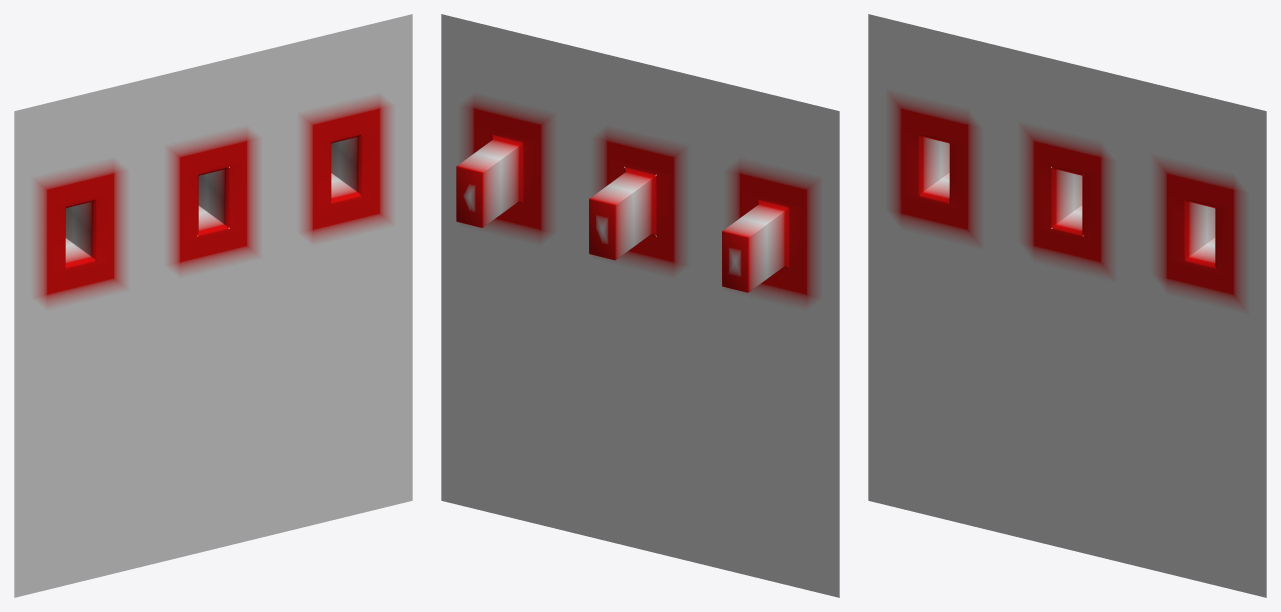
Rendered from wall_hole_300x350_01.fbx.
The picture shows the model from 3 angles, left to right: view 1: azimuth 30°, elevation 25°; view 2: azimuth 150°, elevation 25°; view 3: azimuth 330°, elevation 25°; orthographic projection.
Visible parts, largest first — view 1: wall_hole_300x350_01; view 2: wall_hole_300x350_01; view 3: wall_hole_300x350_01.
Part boxes in pixels (x1,y1,x2,y2): wall_hole_300x350_01: [14, 14, 412, 597]; wall_hole_300x350_01: [441, 14, 839, 597]; wall_hole_300x350_01: [868, 14, 1266, 597].
Size of the model in its own units: 3 by 3.5 by 0.5.
